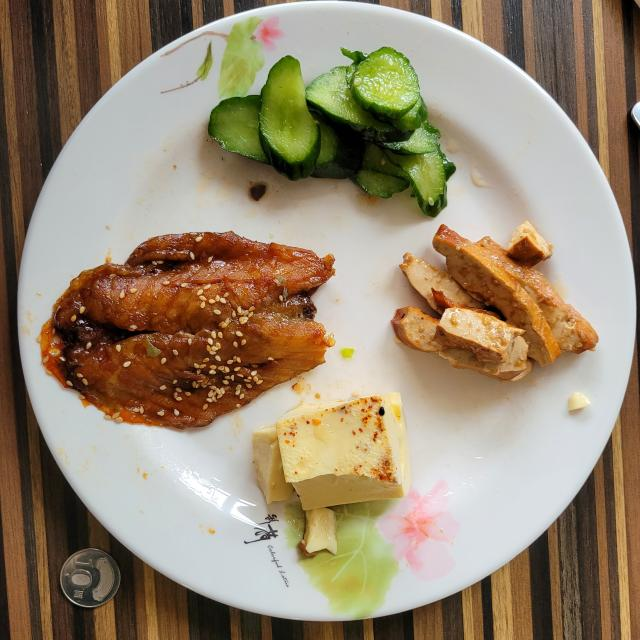Kabayaki sea bream fillet: (41, 232, 330, 429)
coin: (60, 549, 120, 608)
cucumber: (209, 48, 455, 216)
